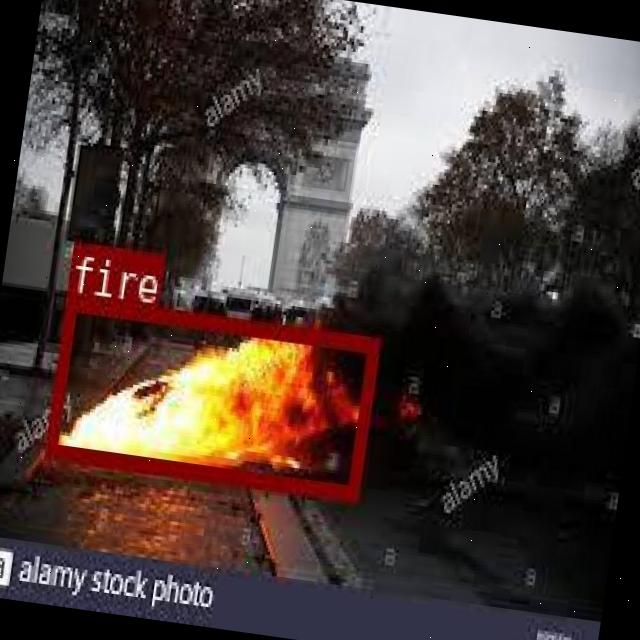fire: (43, 294, 377, 500)
